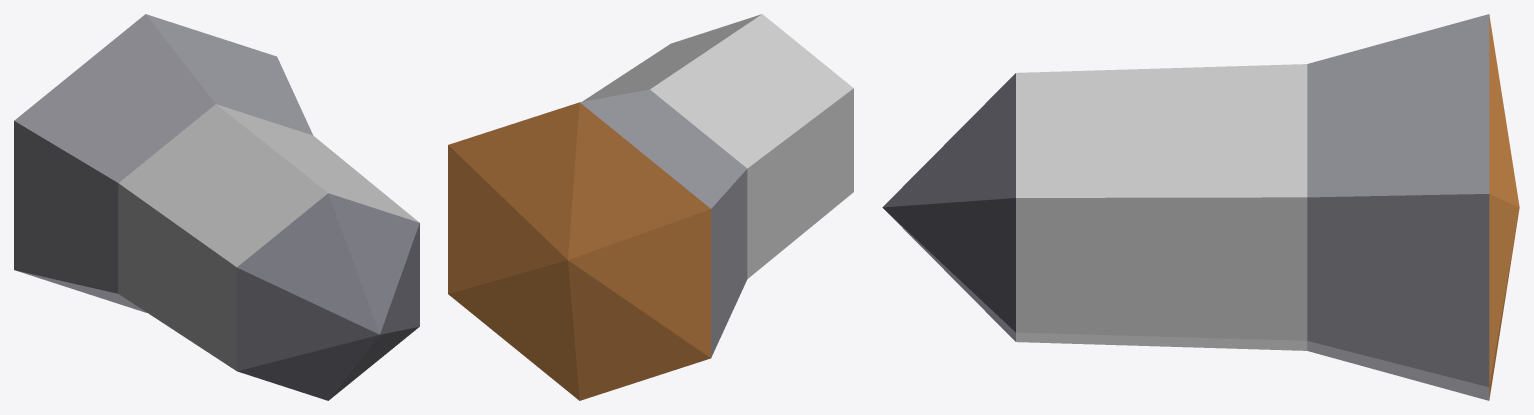
The model's file is engine_heavy.obj.
3 views of the same model, side by side, from view 1: azimuth 30°, elevation 25°; view 2: azimuth 150°, elevation 25°; view 3: azimuth 270°, elevation 25° (orthographic). The views are drawn at different scales.
Visible parts, largest first — view 1: engine_heavy; view 2: engine_heavy; view 3: engine_heavy.
Boxes of the visible parts, x1,y1,x2,y2 form: engine_heavy: (14,14,419,400); engine_heavy: (448,14,853,400); engine_heavy: (882,14,1519,400).
Bounding box in the file's own units: 2.01 × 2.18 × 3.25.
